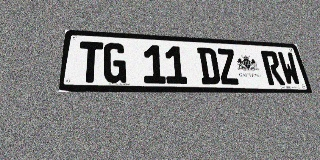1: (143, 44, 166, 84), (164, 46, 187, 84)
D: (197, 47, 221, 84)
G: (103, 42, 126, 83)
R: (260, 51, 285, 85)
T: (77, 41, 103, 83)
W: (277, 52, 302, 85)
Z: (216, 48, 240, 85)
